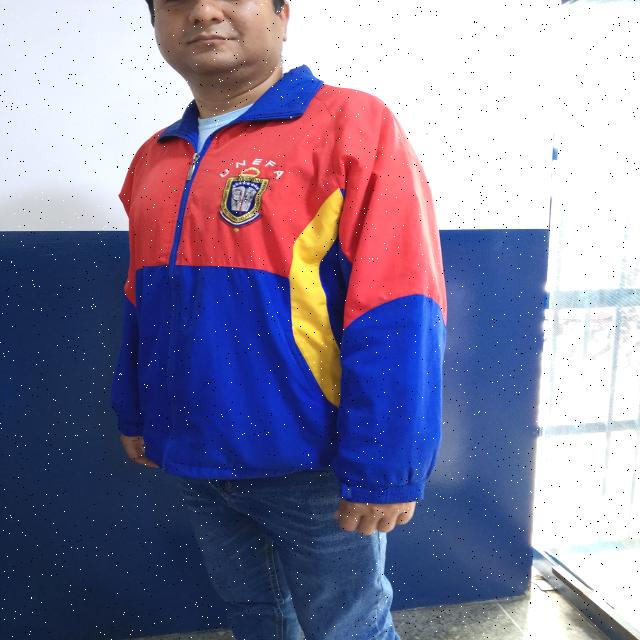chaqueta_unefa: (110, 64, 448, 505)
